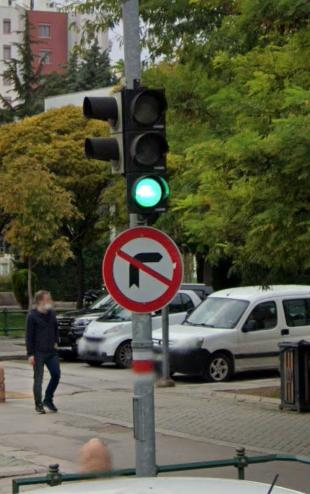greenlight: (124, 87, 170, 216)
rightturnsareforbidden: (103, 225, 182, 312)
